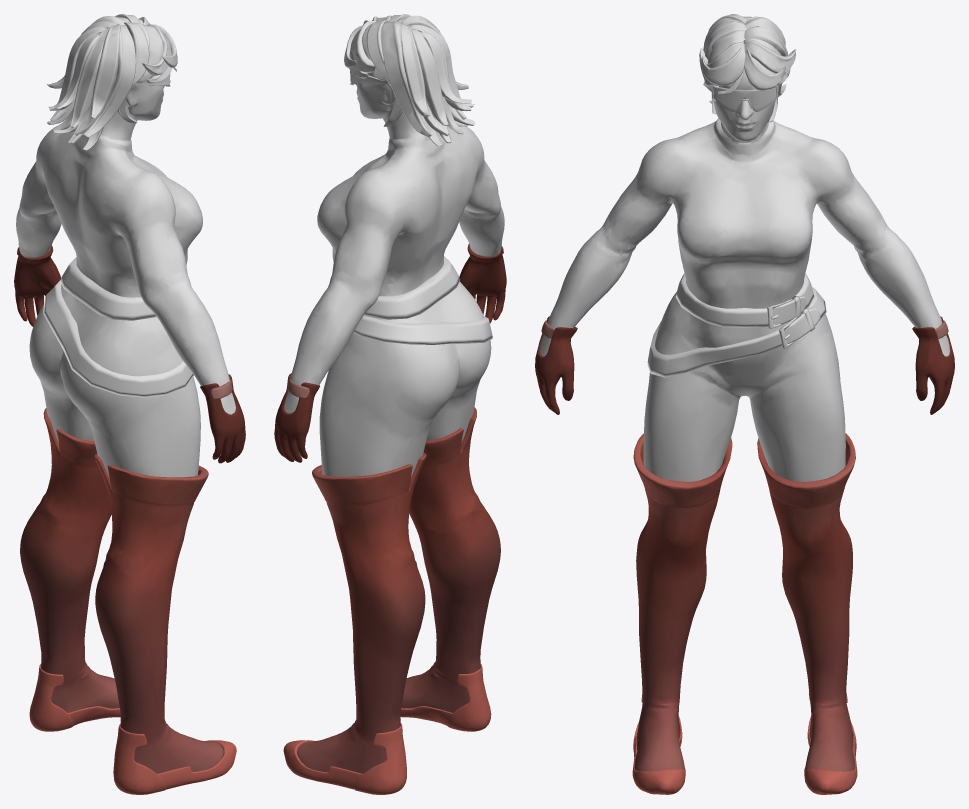
Rendered from HarrietGAMEPROTO.fbx.
3 renders of one model, left to right at view 1: azimuth 30°, elevation 25°; view 2: azimuth 150°, elevation 25°; view 3: azimuth 270°, elevation 25°, orthographic.
Visible parts, largest first — view 1: pCube3; view 2: pCube3; view 3: pCube3.
Part boxes in pixels (box(x1,y1,x2,y2)): pCube3: box(14, 14, 245, 794); pCube3: box(274, 14, 506, 794); pCube3: box(535, 14, 954, 794).
Bounding box in the file's own units: 37.28 × 180 × 92.02.
